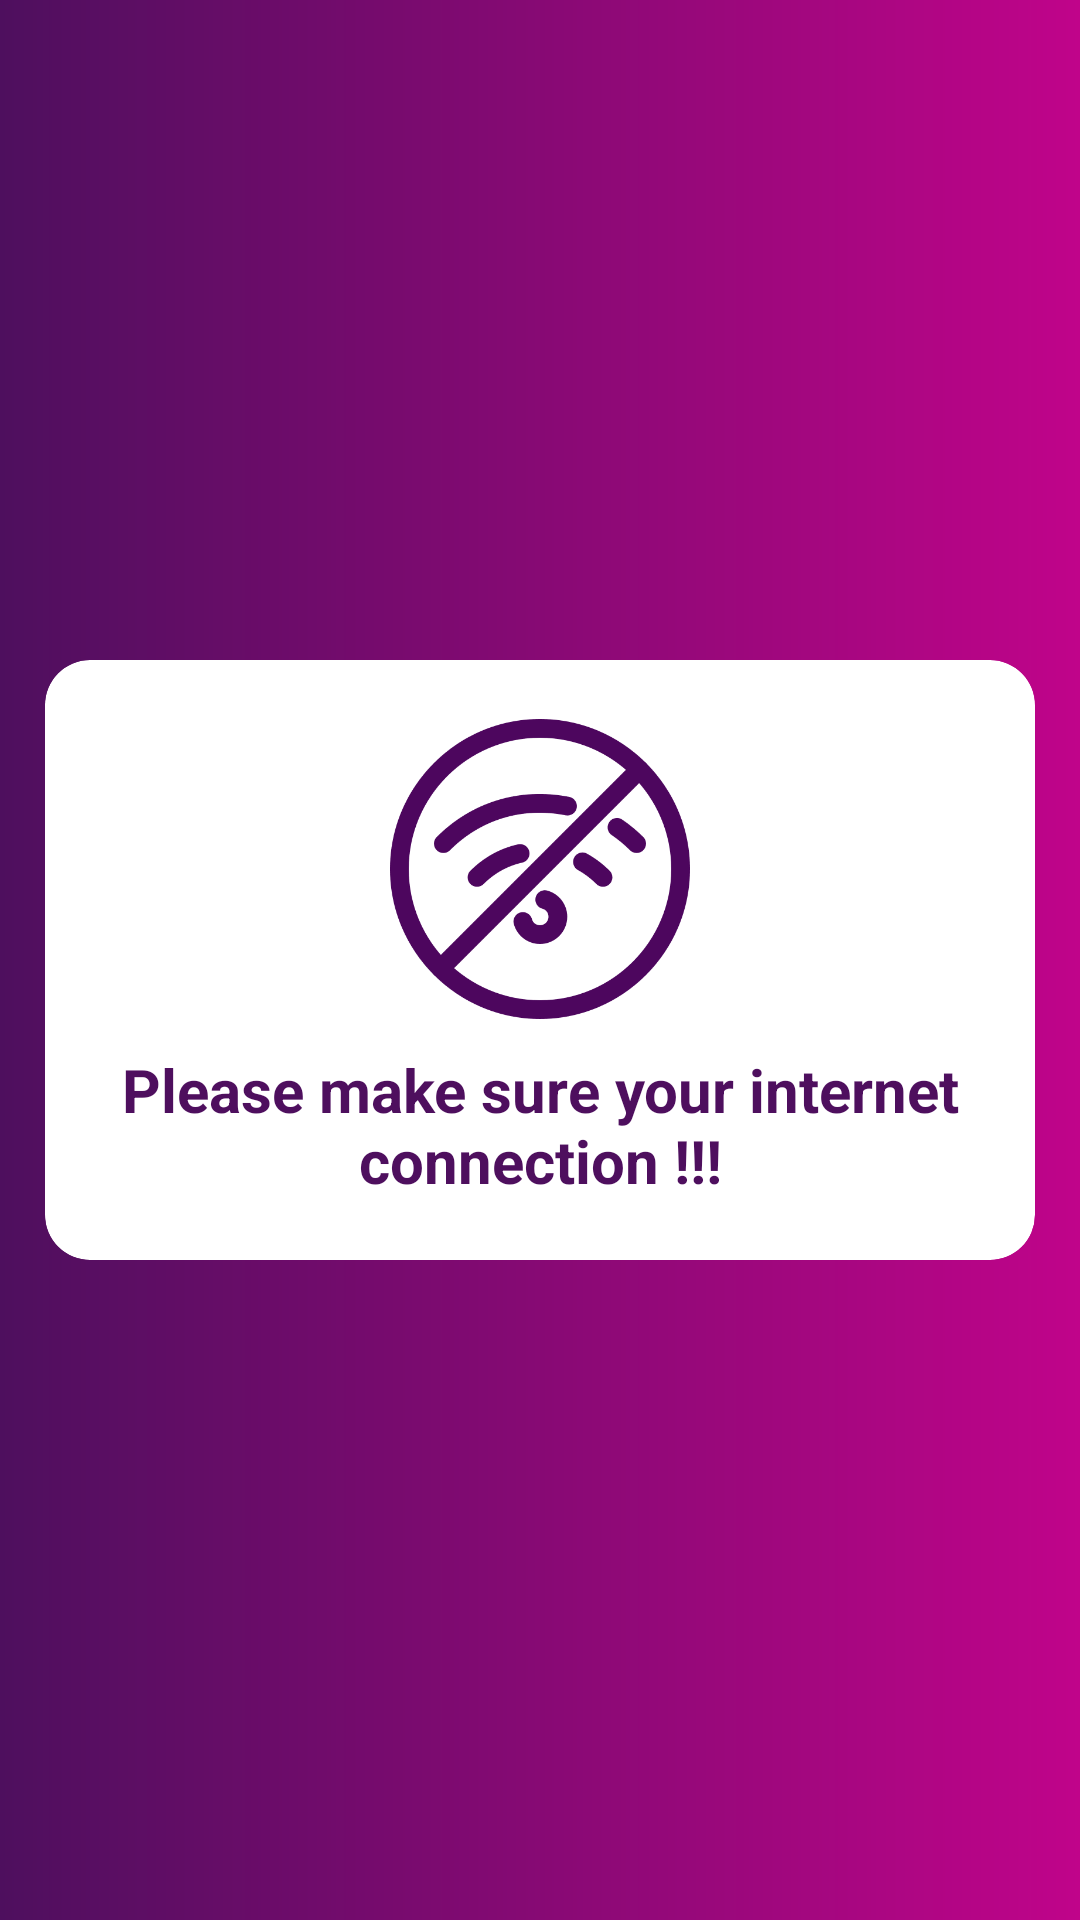

Named icons in this screenshot (1080w x 1920h) and their centers, (x=x, y=y):
nowifi: (x=540, y=869)
